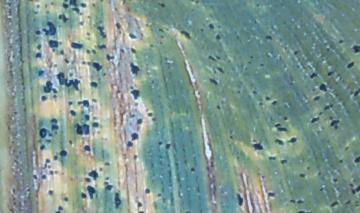tarspot: (56, 71, 81, 90), (41, 20, 57, 36), (73, 123, 90, 136), (42, 78, 54, 94), (97, 25, 108, 39), (86, 185, 97, 199), (179, 28, 191, 40), (58, 12, 69, 24), (91, 60, 104, 70), (130, 63, 140, 76), (236, 191, 244, 207), (114, 190, 121, 208), (89, 169, 99, 181), (39, 128, 49, 139), (82, 144, 93, 154), (331, 119, 341, 130), (59, 1, 71, 10), (253, 143, 265, 152), (76, 99, 89, 107), (124, 139, 134, 149), (127, 31, 138, 40), (48, 40, 59, 49), (38, 94, 49, 103), (208, 77, 219, 86), (288, 134, 297, 145), (95, 42, 107, 50), (131, 88, 139, 100), (352, 43, 360, 55), (104, 51, 114, 60), (310, 115, 320, 124), (277, 126, 289, 133), (88, 81, 98, 89), (267, 191, 277, 199), (274, 138, 284, 146), (320, 83, 328, 93), (71, 43, 84, 49), (72, 7, 81, 15), (69, 108, 77, 117), (143, 186, 151, 195), (208, 54, 217, 62), (296, 197, 305, 205), (346, 61, 355, 69), (325, 103, 334, 111), (343, 198, 352, 206), (329, 200, 338, 208), (50, 124, 60, 131), (131, 132, 138, 142), (353, 154, 360, 164), (59, 150, 67, 158), (136, 118, 144, 126), (265, 33, 273, 41), (105, 184, 114, 191), (310, 72, 317, 81), (337, 38, 346, 45), (267, 155, 277, 161), (207, 23, 215, 30), (214, 34, 222, 41), (115, 22, 122, 30), (34, 29, 41, 37), (34, 52, 42, 59), (62, 57, 70, 64), (50, 117, 58, 124), (146, 110, 153, 118), (92, 121, 100, 128), (84, 113, 91, 121), (132, 153, 139, 161), (164, 142, 171, 150), (217, 66, 224, 74), (299, 171, 306, 179), (264, 94, 271, 102), (326, 70, 334, 77), (353, 88, 360, 96), (318, 185, 325, 193), (52, 87, 58, 96), (119, 46, 125, 55), (157, 138, 163, 147), (215, 103, 221, 112), (38, 70, 45, 77), (66, 99, 73, 106), (52, 154, 59, 161), (63, 196, 70, 203), (190, 166, 197, 173), (289, 198, 296, 205), (338, 158, 345, 165), (259, 61, 266, 68), (158, 2, 166, 8), (70, 1, 78, 7), (39, 144, 47, 150), (49, 168, 55, 176), (103, 161, 111, 167), (157, 27, 165, 33), (252, 88, 258, 96), (271, 99, 277, 107), (316, 169, 322, 177), (80, 2, 87, 8), (130, 48, 137, 54), (32, 173, 38, 180), (85, 177, 92, 183), (282, 158, 288, 165), (274, 121, 280, 128), (332, 177, 339, 183), (249, 53, 255, 60), (255, 2, 261, 9), (103, 176, 111, 181), (294, 48, 298, 58), (312, 96, 320, 101), (297, 210, 310, 213), (36, 43, 42, 49), (81, 60, 87, 66), (41, 173, 47, 179), (48, 189, 54, 195), (58, 204, 64, 210), (80, 192, 86, 198), (228, 134, 234, 140), (68, 71, 74, 77), (32, 10, 39, 15), (68, 139, 73, 146), (137, 201, 142, 208), (352, 189, 357, 196), (348, 183, 355, 188), (60, 48, 64, 56), (356, 185, 360, 193), (92, 49, 97, 55), (35, 3, 41, 8), (45, 158, 51, 163), (157, 192, 162, 198), (49, 1, 54, 7), (345, 145, 350, 151), (102, 71, 107, 77), (193, 1, 200, 5), (92, 98, 97, 103), (87, 61, 92, 66), (92, 3, 97, 8), (283, 116, 288, 121), (79, 21, 84, 26), (86, 48, 90, 54), (46, 10, 50, 16), (56, 209, 62, 213), (138, 210, 145, 213), (86, 31, 90, 35)
